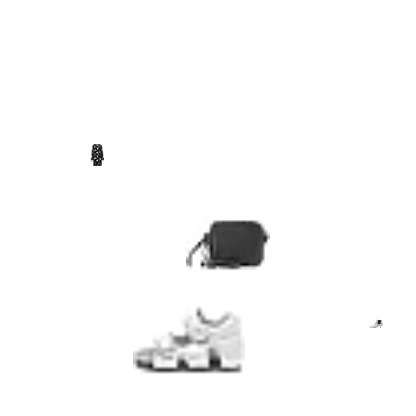Ankle_boot: (369, 317, 383, 331)
Bag: (186, 200, 270, 284)
Dress: (86, 144, 108, 166)
Sandal: (133, 284, 245, 396)
